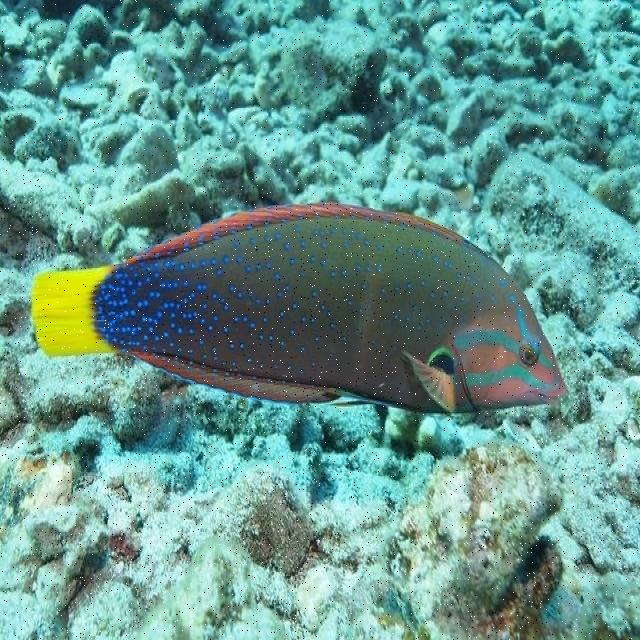fish: (31, 203, 569, 413)
